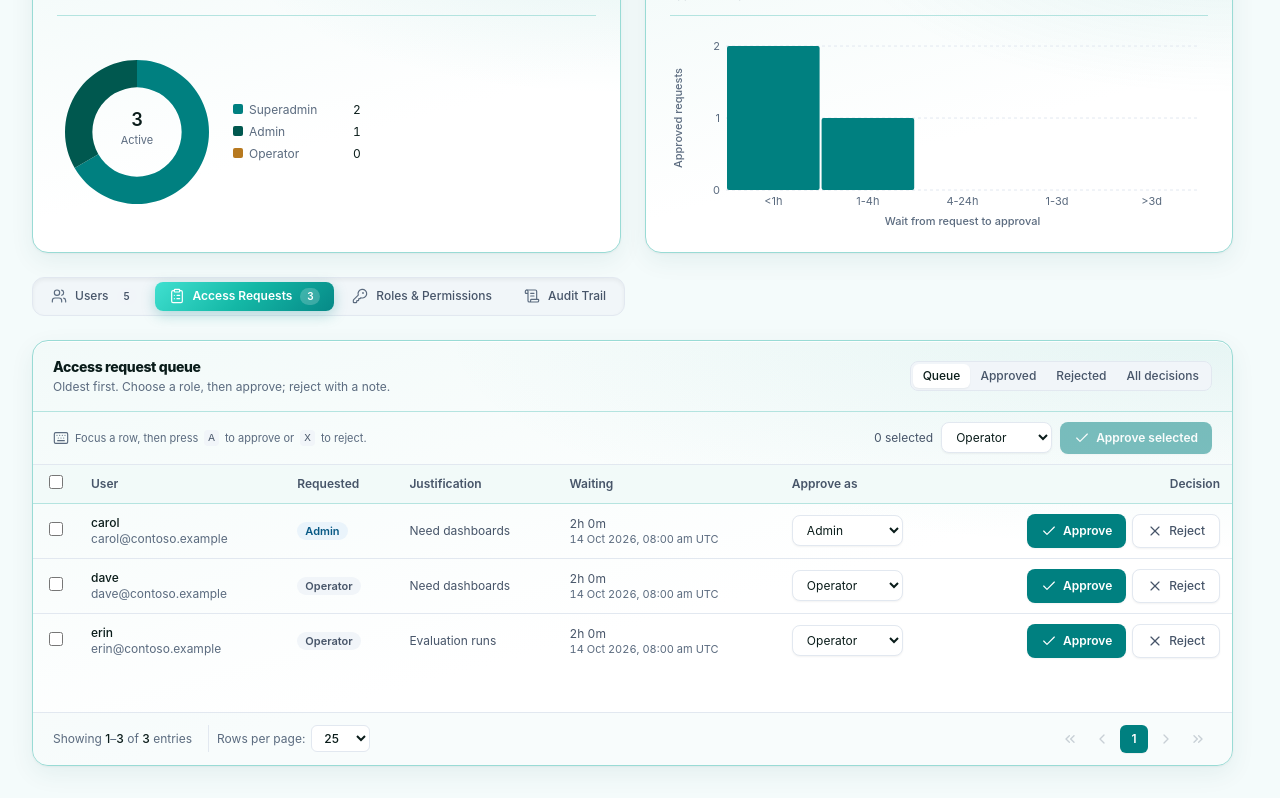
Scenario: Access Requests tab › select-all then a failed bulk approve brings the rows back
This screenshot has width=1280, height=798.
(page scrolled)
Expected: the row with test id "request-row-r-1" is shown, [33,503,1232,558]
Click the checkbox named "Select all requests". click: (56, 482)
box: [49,475,63,489]
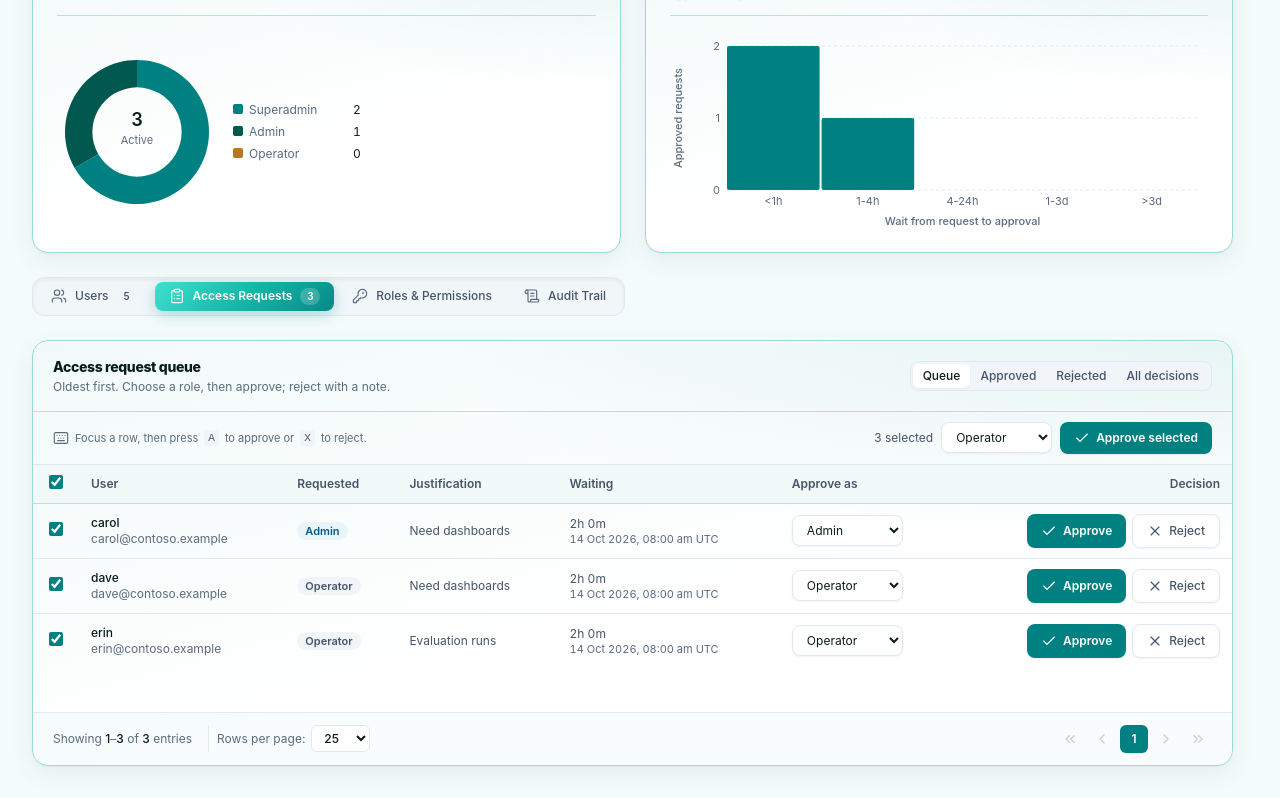
Click the button "Approve selected". click: (1136, 438)
box: [1060,422,1212,454]
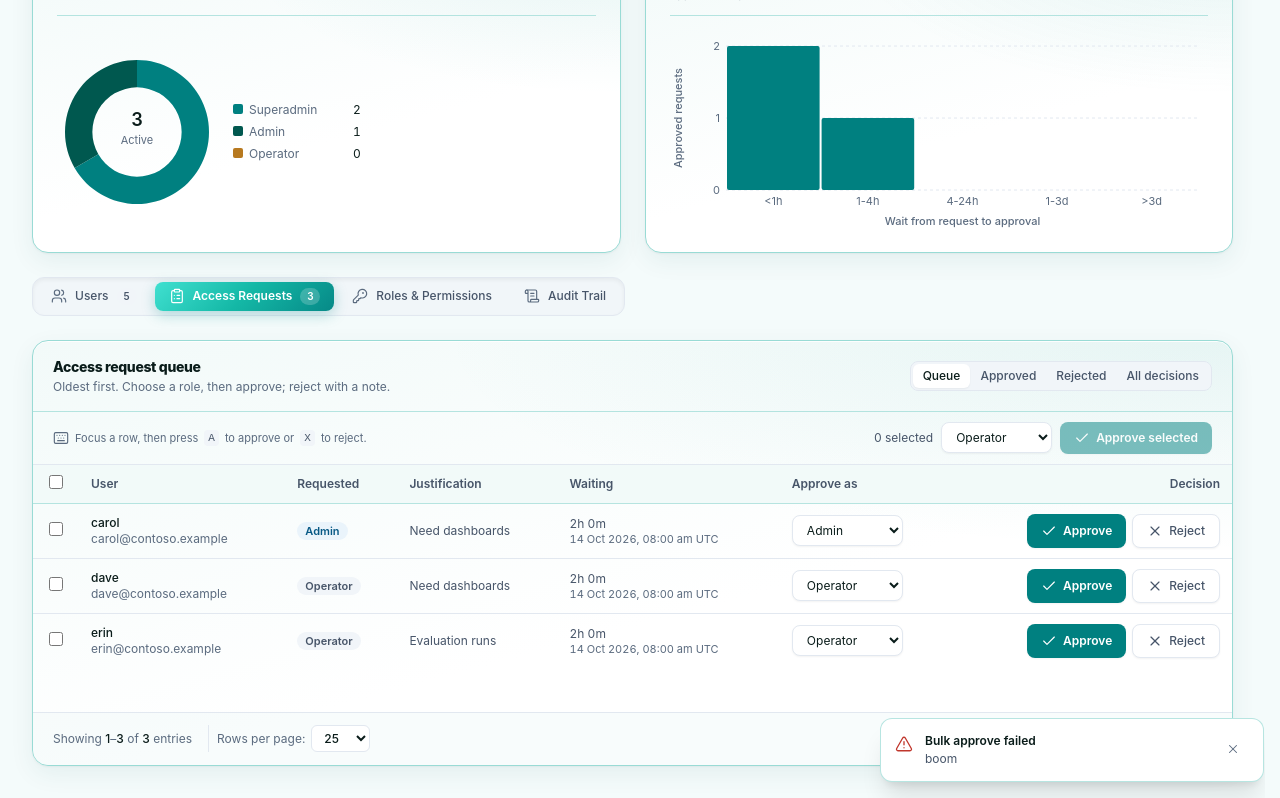
Expected: the row with test id "request-row-r-1" is shown, [33,503,1232,558]
Result: the text "Bulk approve failed" is shown at [925,733,1036,748]
